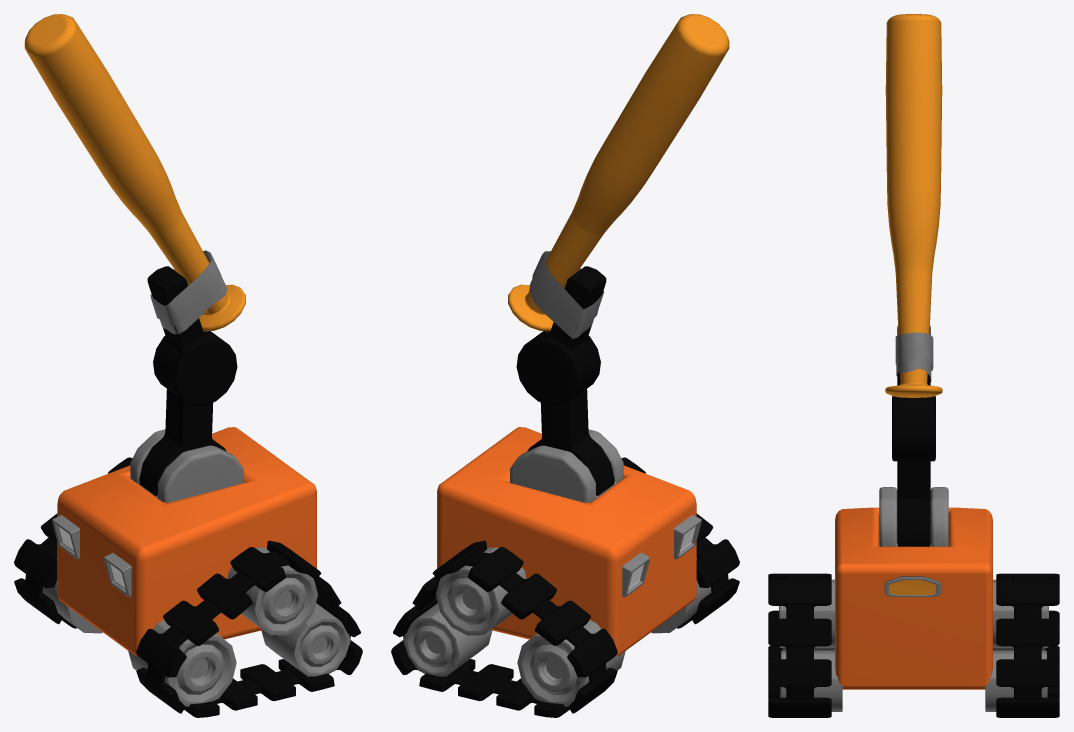
The model's file is Breaker.fbx.
3 renders of one model, left to right at view 1: azimuth 30°, elevation 25°; view 2: azimuth 150°, elevation 25°; view 3: azimuth 270°, elevation 25°, orthographic. The views are drawn at different scales.
Parts seen in each view (by area): view 1: BreakerBody; view 2: BreakerBody; view 3: BreakerBody.
Part boxes in pixels (x1,y1,x2,y2): BreakerBody: (14,14,362,717); BreakerBody: (391,14,739,717); BreakerBody: (768,14,1059,717).
Size of the model in its own units: 157 by 385 by 165.
